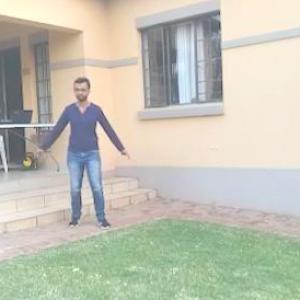land: (40, 84, 136, 235)
